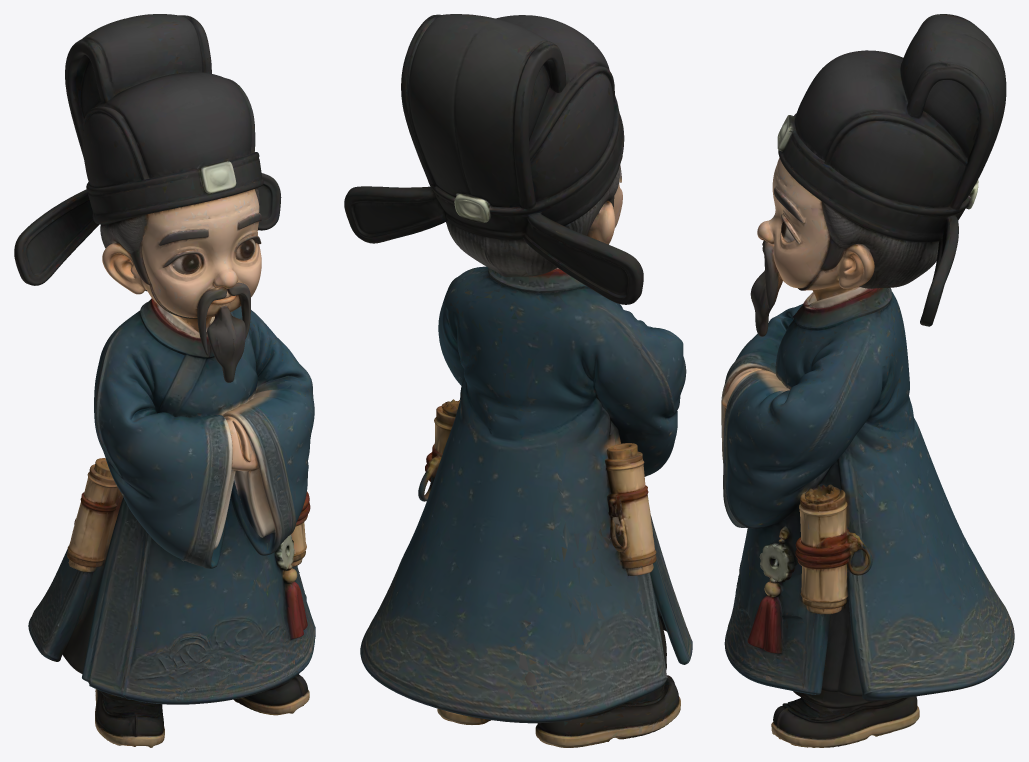
The model's file is welcome.glb.
3 renders of one model, left to right at view 1: azimuth 30°, elevation 25°; view 2: azimuth 150°, elevation 25°; view 3: azimuth 270°, elevation 25°, orthographic. The views are drawn at different scales.
Parts seen in each view (by area): view 1: node_0; view 2: node_0; view 3: node_0.
Part boxes in pixels (box(x1,y1,x2,y2)): node_0: box(14, 14, 315, 747); node_0: box(344, 14, 692, 747); node_0: box(721, 14, 1014, 747).
Bounding box in the file's own units: 0.4826 × 1.14 × 0.4506.
Materials: 1 (1 with a texture image).
